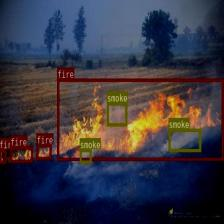fire: (57, 78, 223, 160), (10, 145, 33, 162), (36, 144, 51, 159), (0, 149, 6, 163)
smoke: (168, 128, 201, 152), (106, 102, 127, 126), (79, 149, 91, 163)
